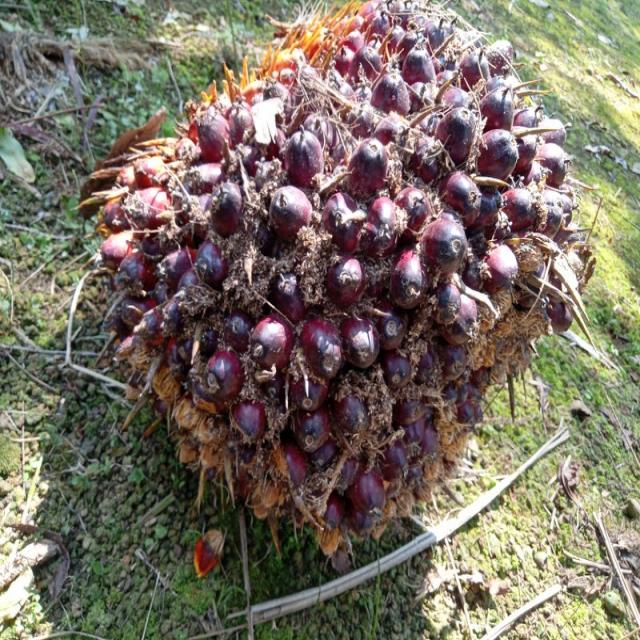fraksi 1: (101, 0, 593, 549)
